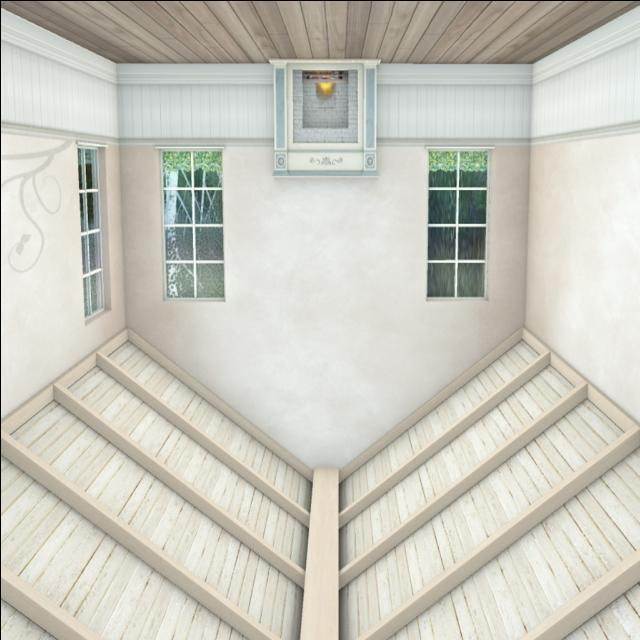Fire: (312, 72, 339, 108)
